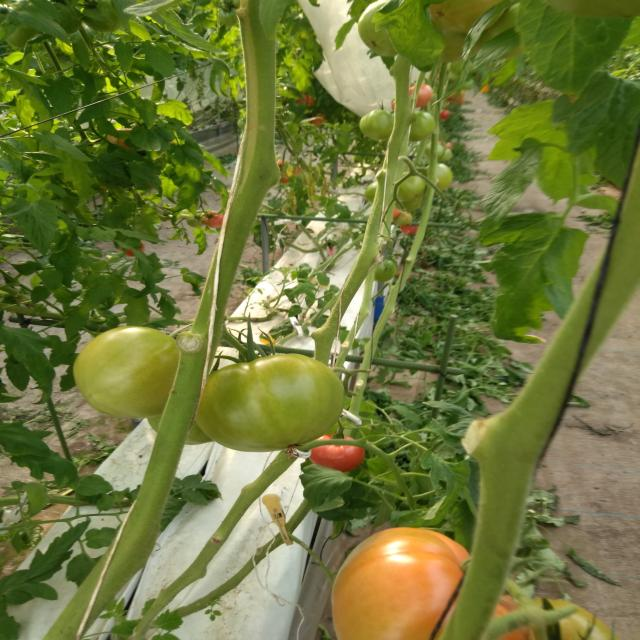sari: (318, 503, 513, 640)
yesil: (41, 288, 353, 463)
